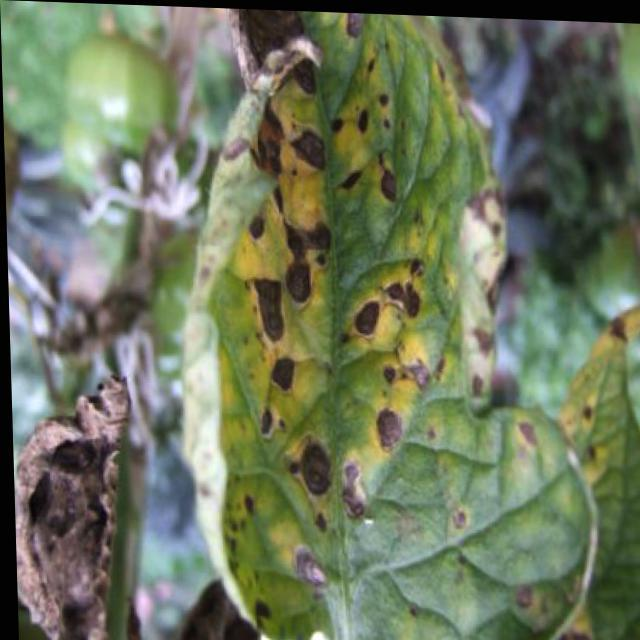Tomato Early blight leaf: (196, 7, 597, 639)
